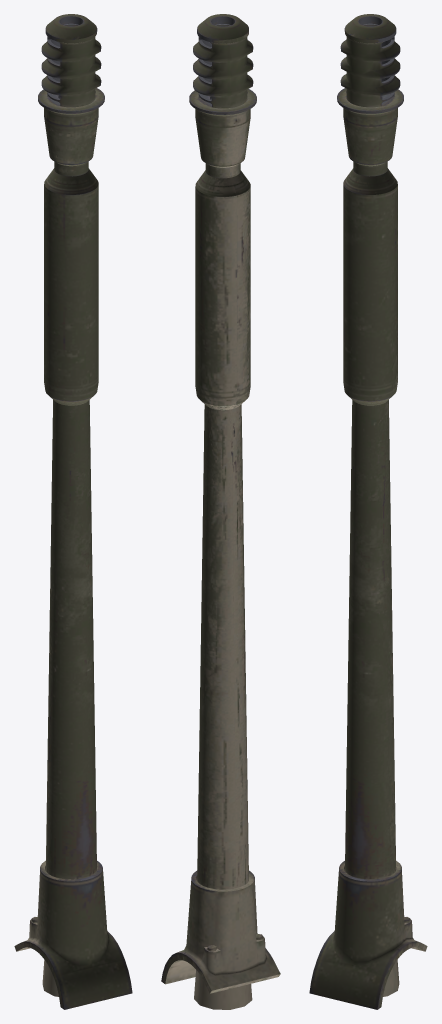
File: Gun_03.glb
3 views of the same model, side by side, from view 1: azimuth 30°, elevation 25°; view 2: azimuth 210°, elevation 25°; view 3: azimuth 330°, elevation 25° (orthographic).
Visible parts, largest first — view 1: set_0_group_0; view 2: set_0_group_0; view 3: set_0_group_0.
Part boxes in pixels (x1,y1,x2,y2): set_0_group_0: (14,14,132,1009); set_0_group_0: (161,14,280,1009); set_0_group_0: (309,14,427,1009).
Size of the model in its own units: 0.3337 by 4.51 by 0.4242.
Materials: 1 (1 with a texture image).
